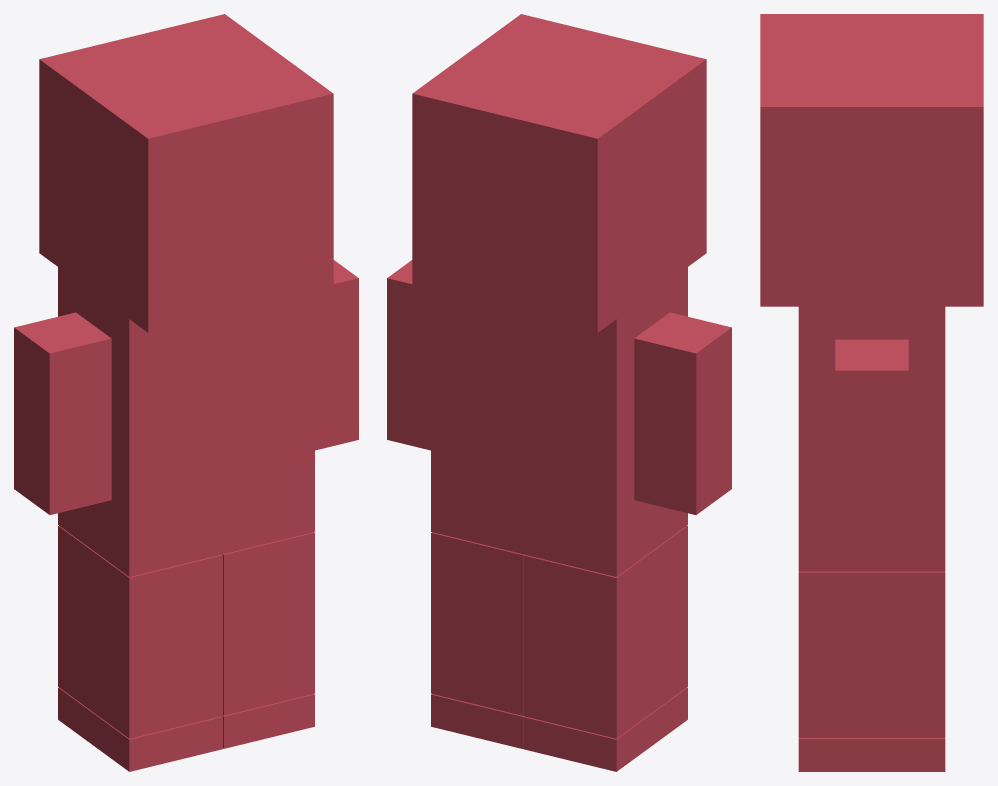
The model's file is asset.glb.
3 renders of one model, left to right at view 1: azimuth 30°, elevation 25°; view 2: azimuth 150°, elevation 25°; view 3: azimuth 270°, elevation 25°, orthographic. The views are drawn at different scales.
Visible parts, largest first — view 1: Mesh_Mesh_head_geo.001_lambert2SG.001; view 2: Mesh_Mesh_head_geo.001_lambert2SG.001; view 3: Mesh_Mesh_head_geo.001_lambert2SG.001.
Boxes of the visible parts, <box> form: Mesh_Mesh_head_geo.001_lambert2SG.001: <box>14,14,358,771</box>; Mesh_Mesh_head_geo.001_lambert2SG.001: <box>387,14,731,771</box>; Mesh_Mesh_head_geo.001_lambert2SG.001: <box>760,14,983,771</box>.
Size of the model in its own units: 5 by 10 by 3.05.
